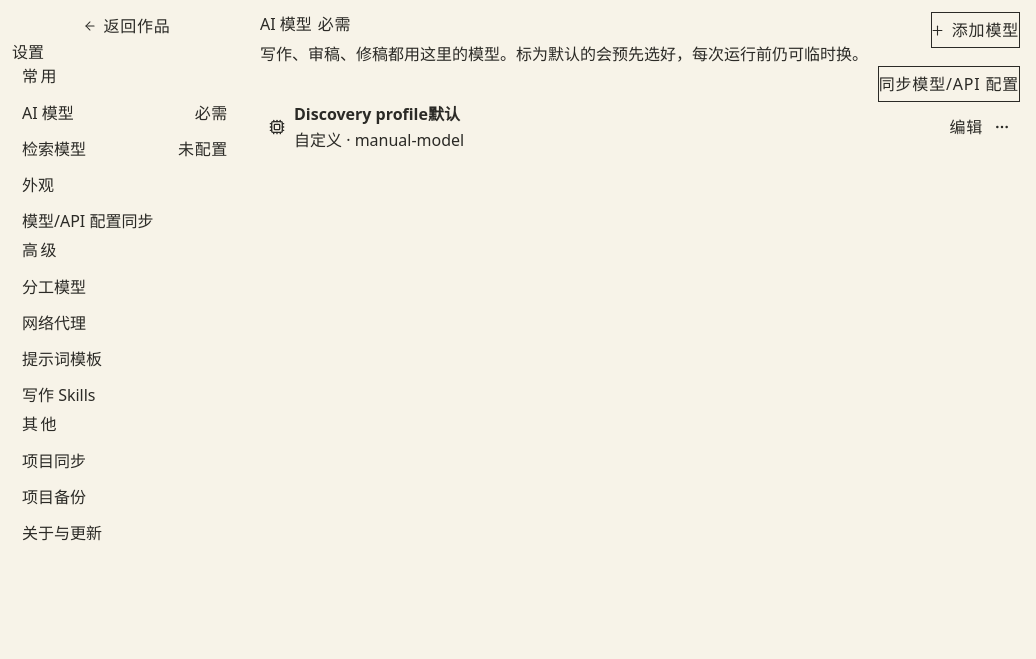
Test: model discovery settings flow › applies endpoint selection metadata and preserves the author limit: unlisted
Later steps or results of the test are not shown.
Click the button with aria-label "编辑「": (966, 127) x1=948 y1=113 x2=984 y2=141
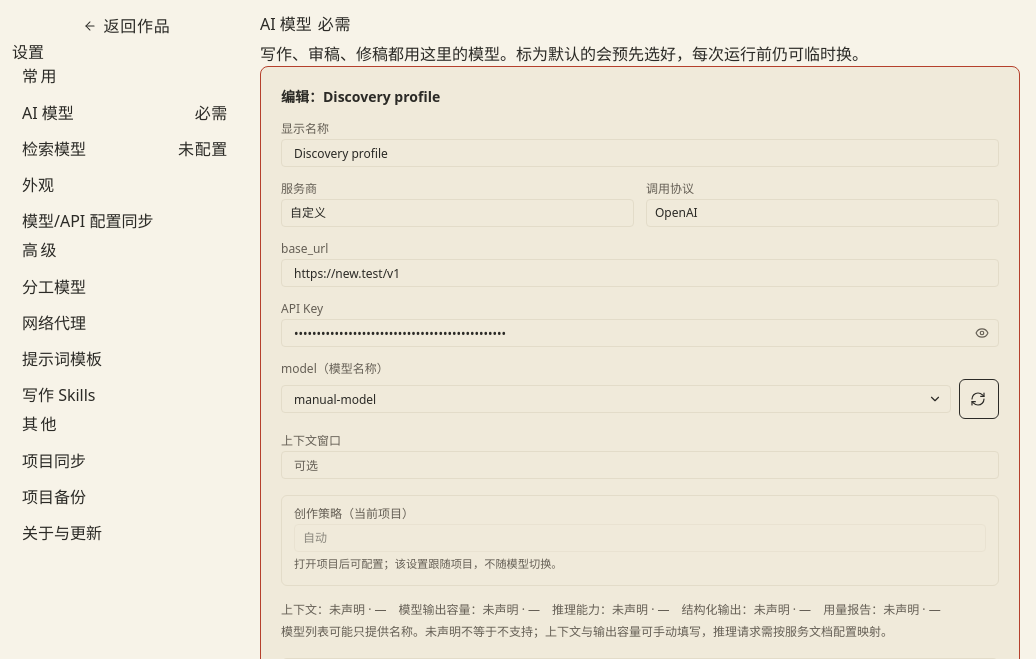
Click the button named "获取模型列表": (979, 399) x1=959 y1=379 x2=999 y2=419
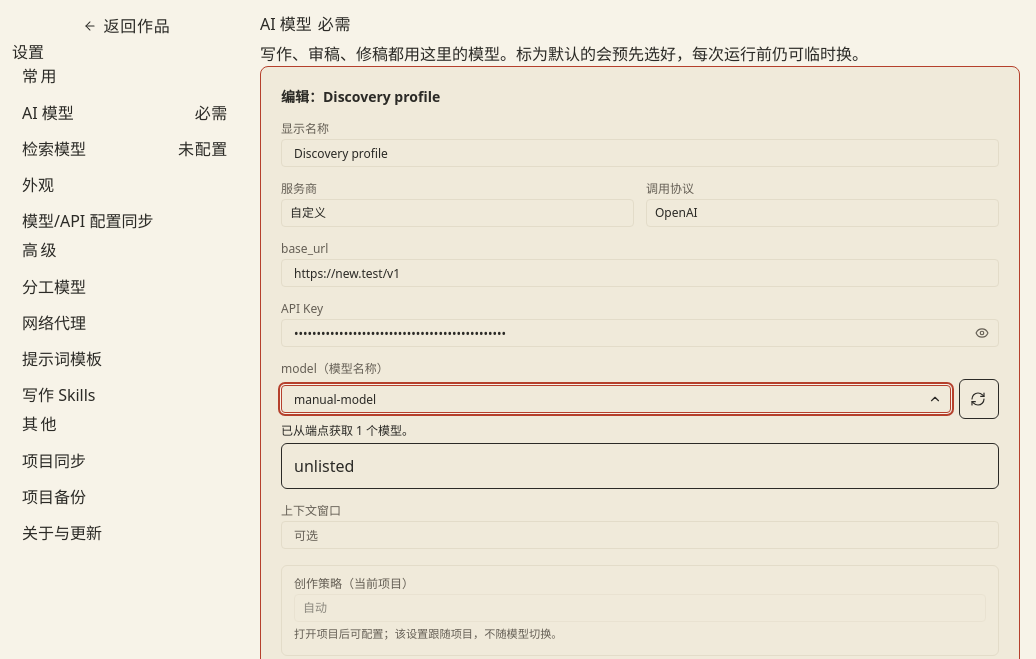
Click the option "unlisted": (324, 466) x1=294 y1=455 x2=354 y2=477
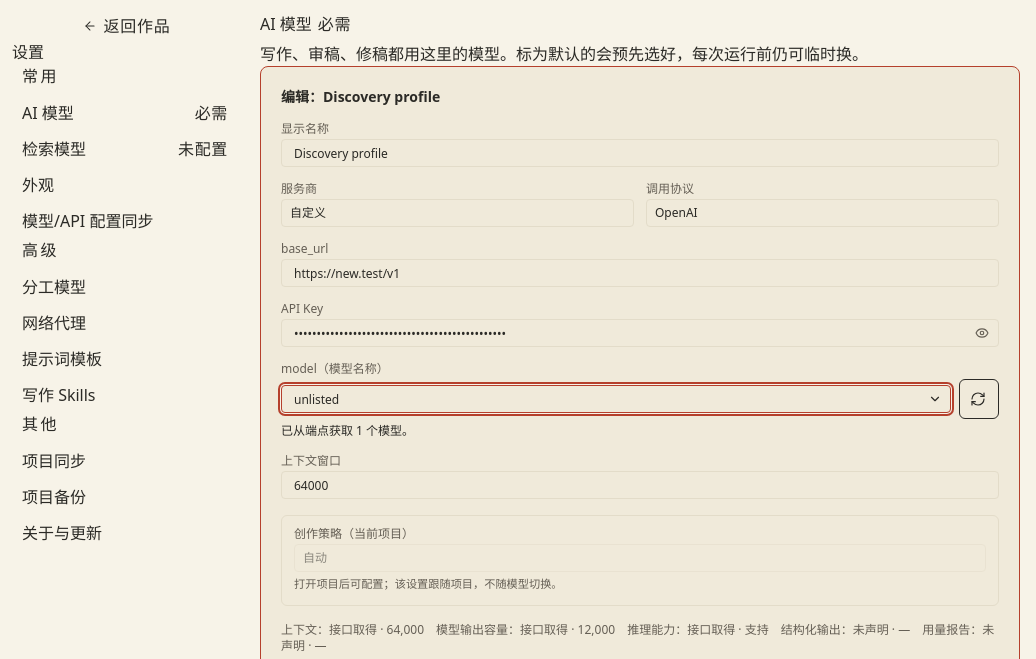
expect the number field named "上下文窗口" holds "64000": met, box x1=281 y1=471 x2=999 y2=499
